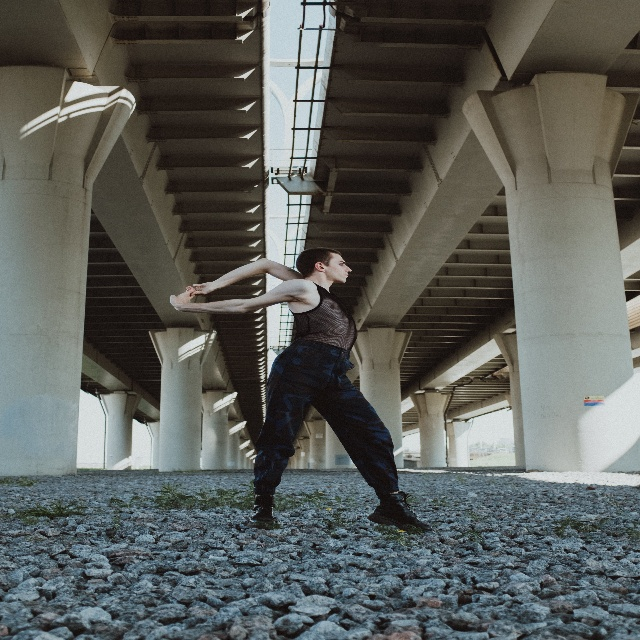Sin_guantes: (171, 287, 194, 316), (188, 283, 210, 296)
